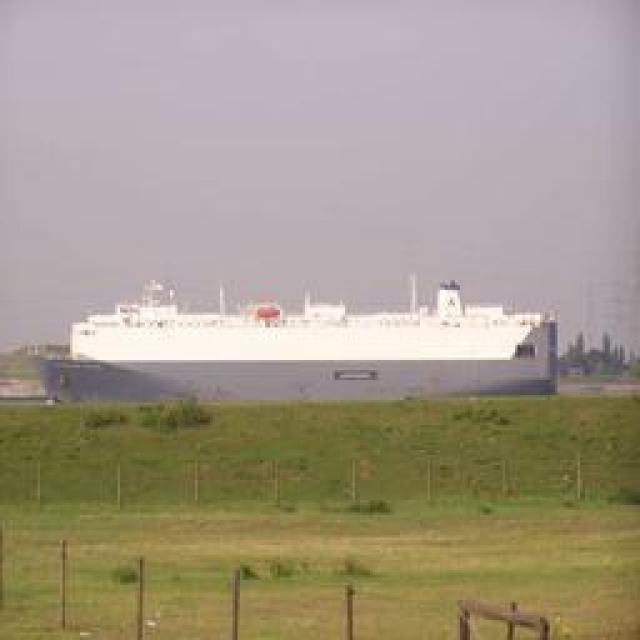CIV_Ship: (50, 292, 560, 382)
